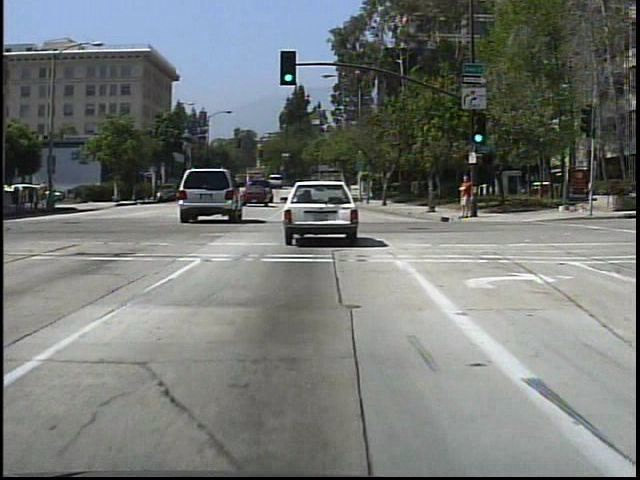person: (458, 171, 481, 222), (42, 180, 53, 212), (50, 183, 60, 210)
